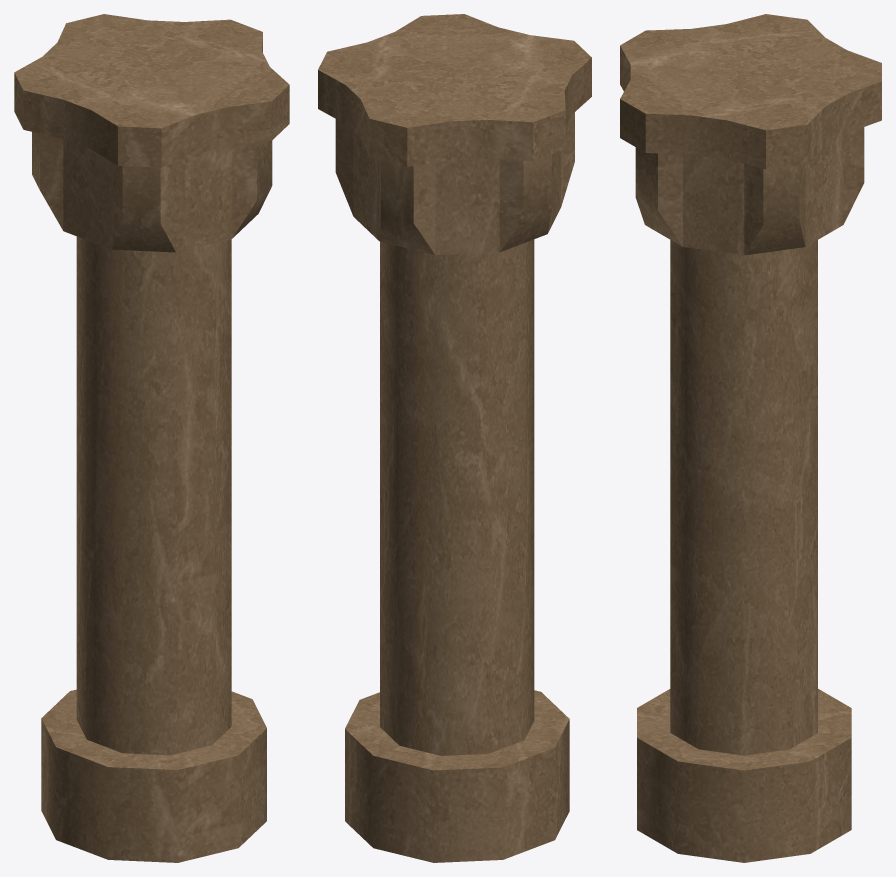
The model's file is pillar_Sandstone_01.FBX.
3 renders of one model, left to right at view 1: azimuth 30°, elevation 25°; view 2: azimuth 150°, elevation 25°; view 3: azimuth 270°, elevation 25°, orthographic.
Parts seen in each view (by area): view 1: Cylinder002; view 2: Cylinder002; view 3: Cylinder002.
Part boxes in pixels (x1,y1,x2,y2): Cylinder002: (14, 14, 289, 862); Cylinder002: (318, 14, 591, 862); Cylinder002: (620, 14, 881, 862).
Size of the model in its own units: 78.36 by 233 by 74.52.
